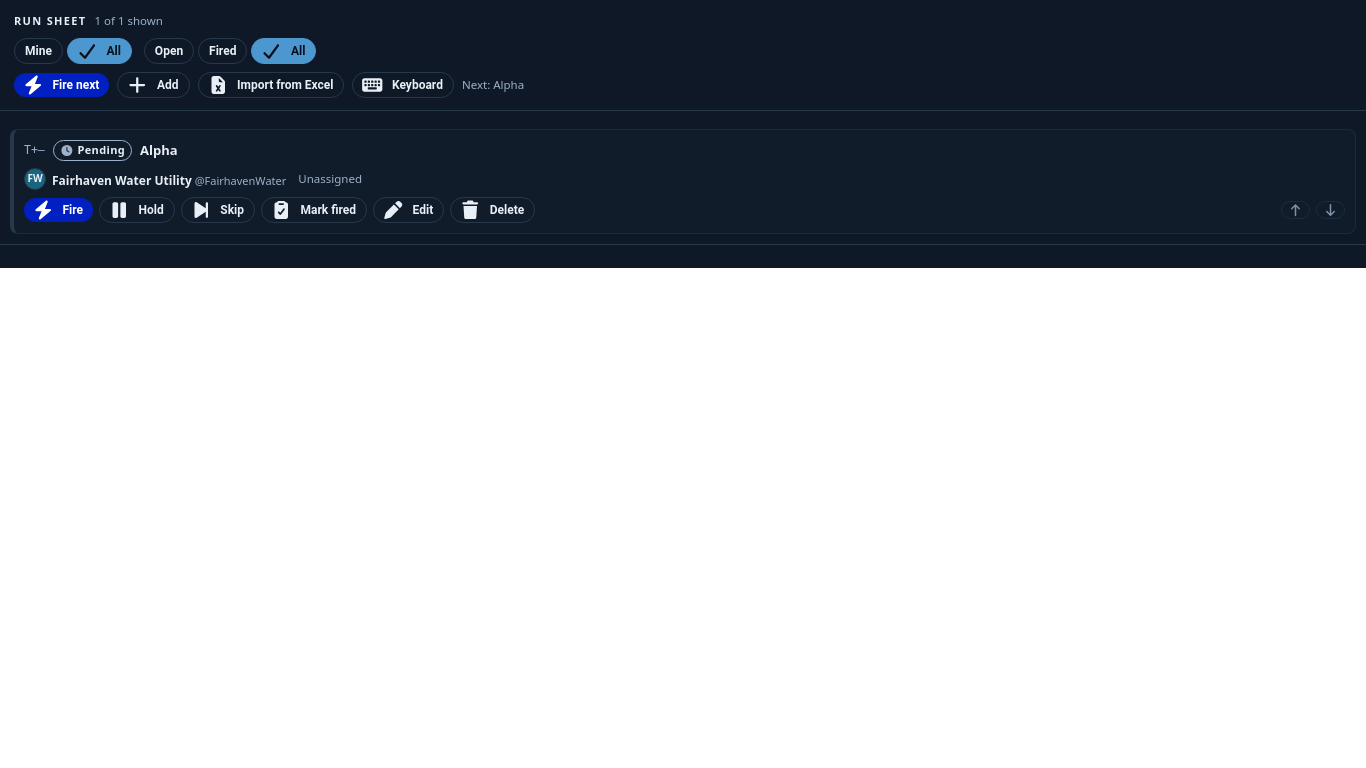
Test: Import from Excel — accessibility › Escape closes the dialog
Click the button "Import from Excel": (271, 85) [198,72,344,98]
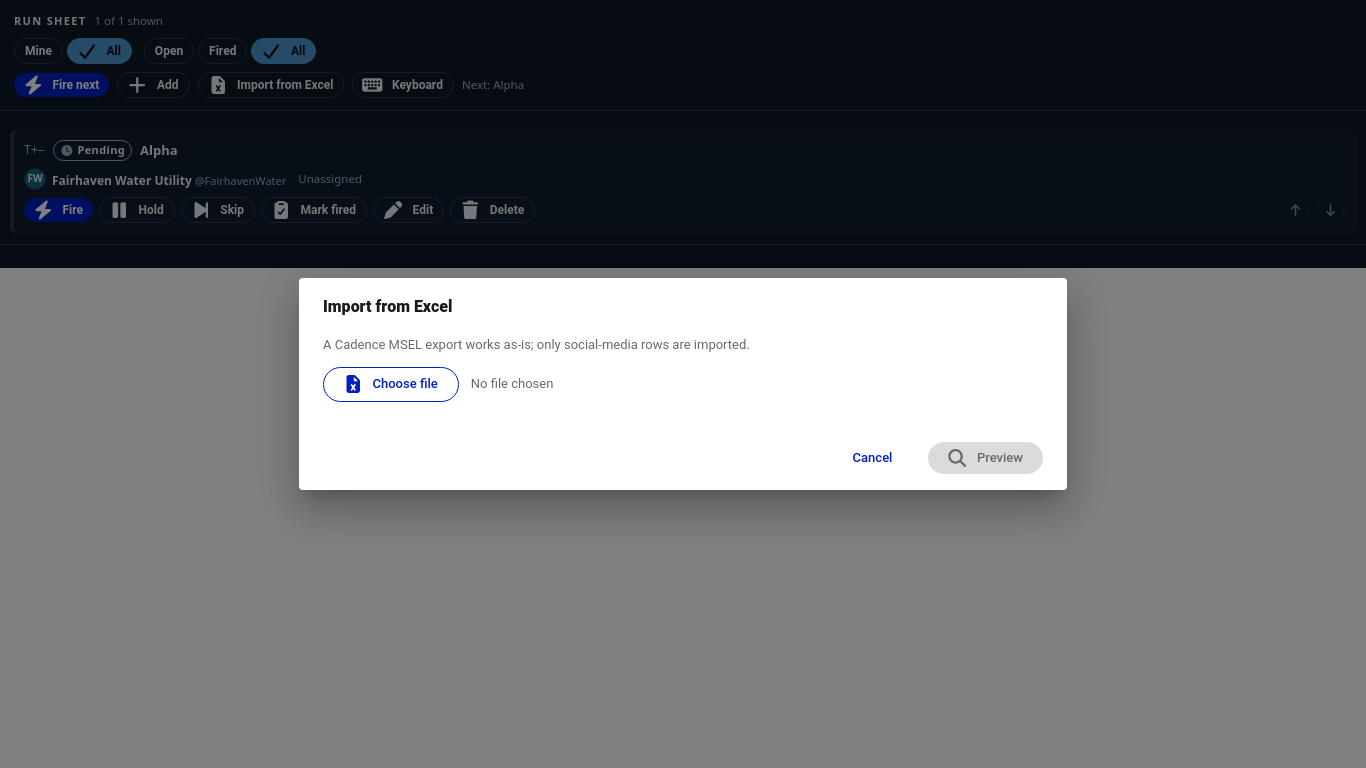
Press Escape in the dialog "Import from Excel", box [299,278,1067,490]
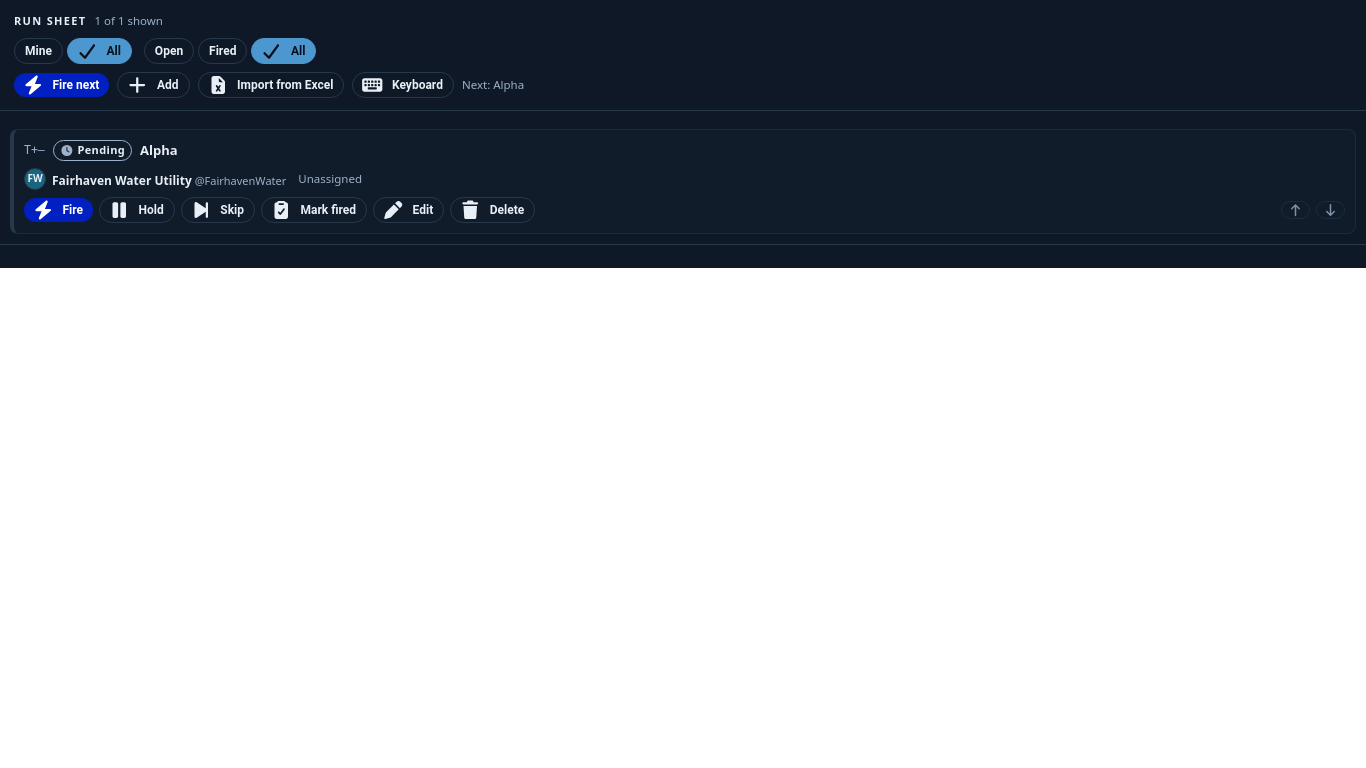
expect the dialog is gone: met
